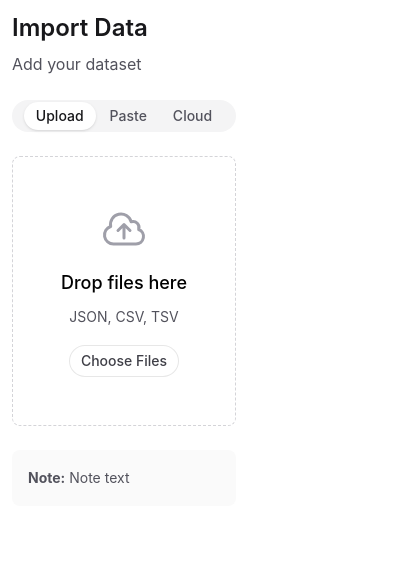
Test case: StepDataImport — paste tab › reports zero lines and disables clear/validate when empty
Step 1. Click the button with test id "project-create-paste-tab" → (128,116), box [98,102,159,130]
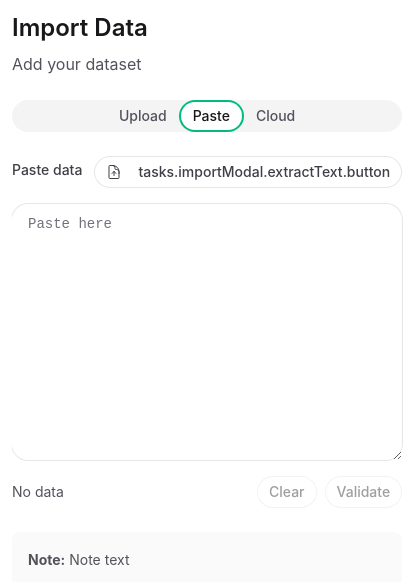
Result: the button with test id "project-create-clear-data-button" is disabled at [257,476,316,508]
Result: the button with test id "project-create-validate-data-button" is disabled at [324,476,402,508]
